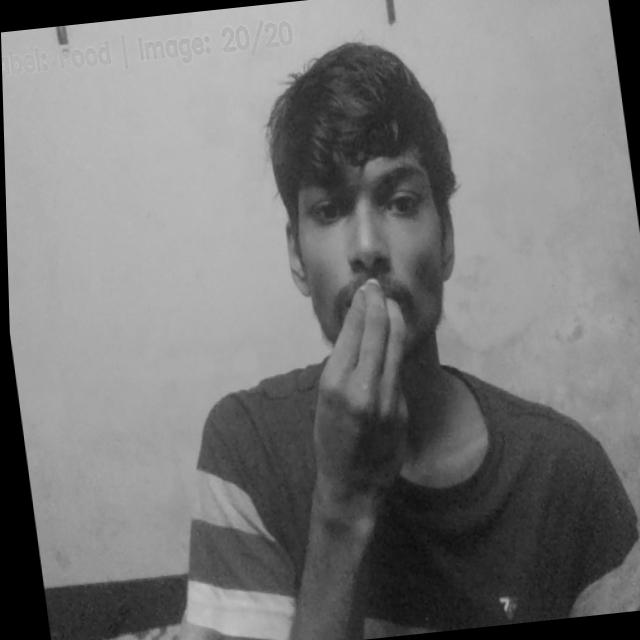Food: (293, 272, 433, 497)
